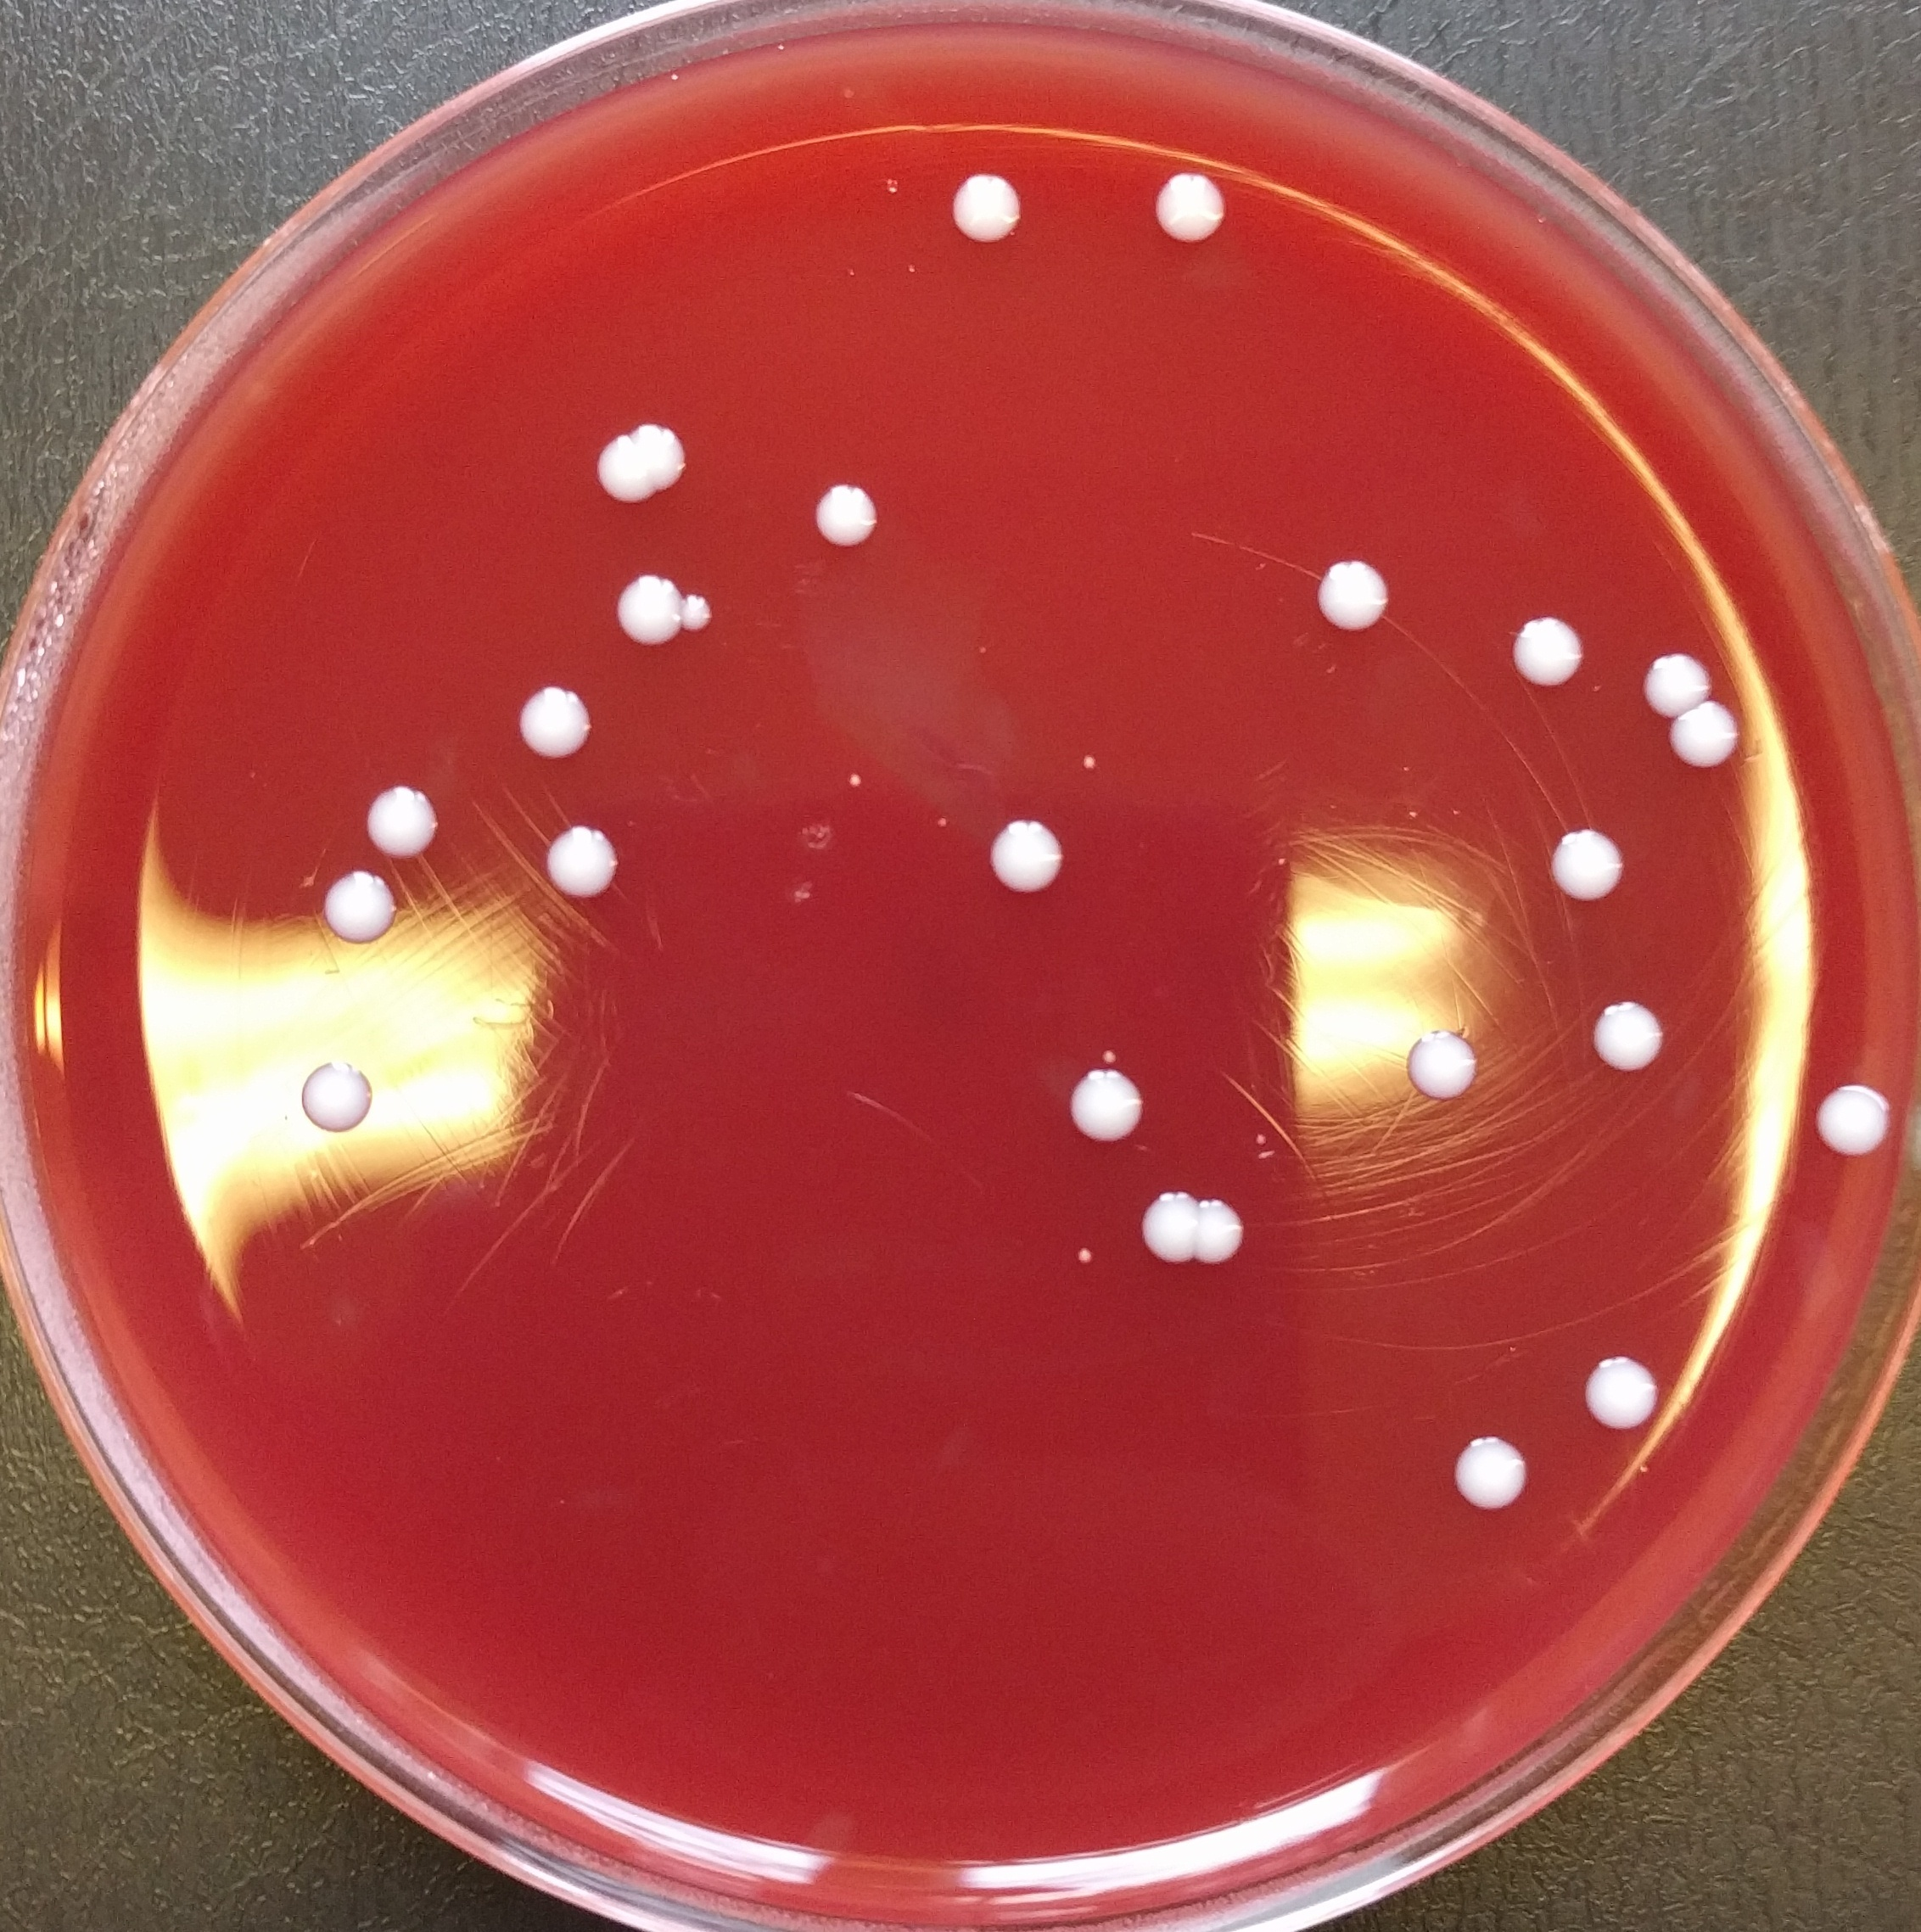sp22: (285, 1043, 380, 1138), (1805, 1077, 1900, 1170), (1063, 1059, 1156, 1153), (1450, 1425, 1532, 1526), (1578, 1346, 1666, 1438), (535, 818, 625, 904), (1545, 825, 1636, 910), (517, 677, 598, 772), (1150, 167, 1233, 255), (318, 867, 399, 957), (941, 169, 1024, 248), (992, 818, 1075, 896), (1312, 556, 1395, 633), (1594, 998, 1668, 1084), (605, 567, 683, 648), (362, 779, 438, 862), (1508, 614, 1587, 692), (1668, 693, 1740, 778), (588, 433, 656, 521), (1128, 1182, 1200, 1262), (1404, 1031, 1476, 1105), (1643, 649, 1717, 720), (813, 482, 881, 553), (1200, 1186, 1247, 1272), (639, 424, 688, 493), (667, 595, 716, 640)
